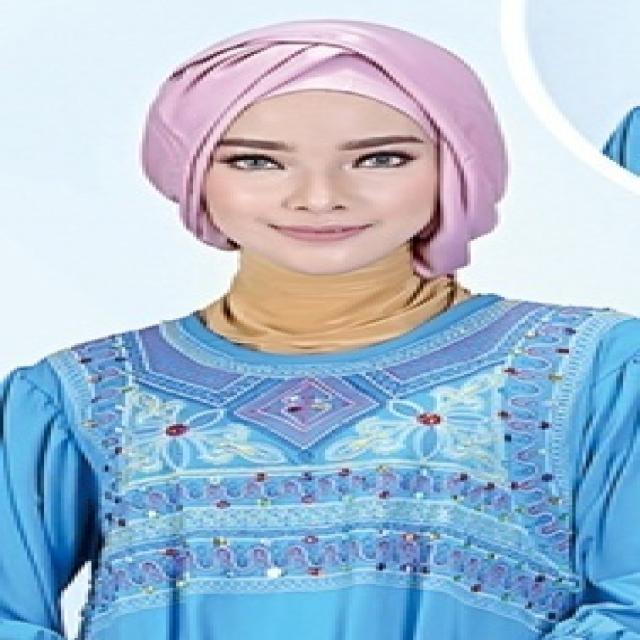head: (120, 18, 506, 276)
